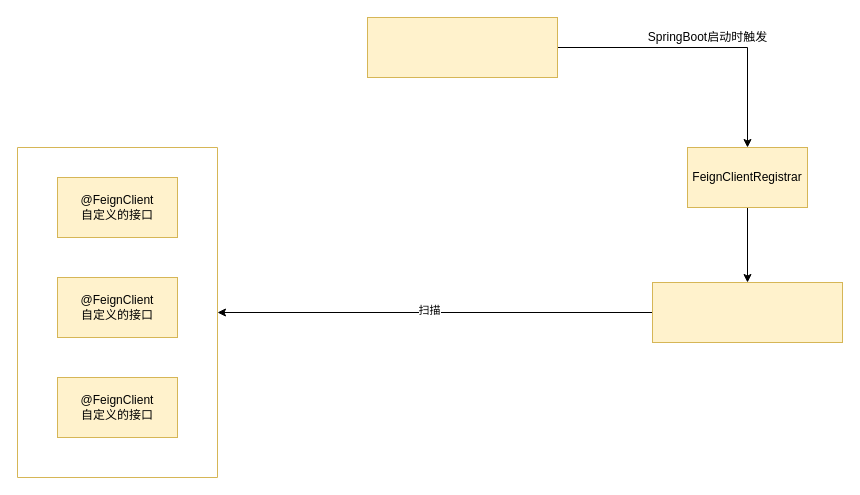
The diagram is 860 pixels wide and 495 high, and some of its shapes have lost their labels. The centre of each missing label's shape, as x and y in pixels:
"Application启动类 @EnableFeignClients注解" goes at (462,47).
"registerBeanDefinitions方法" goes at (747,312).
